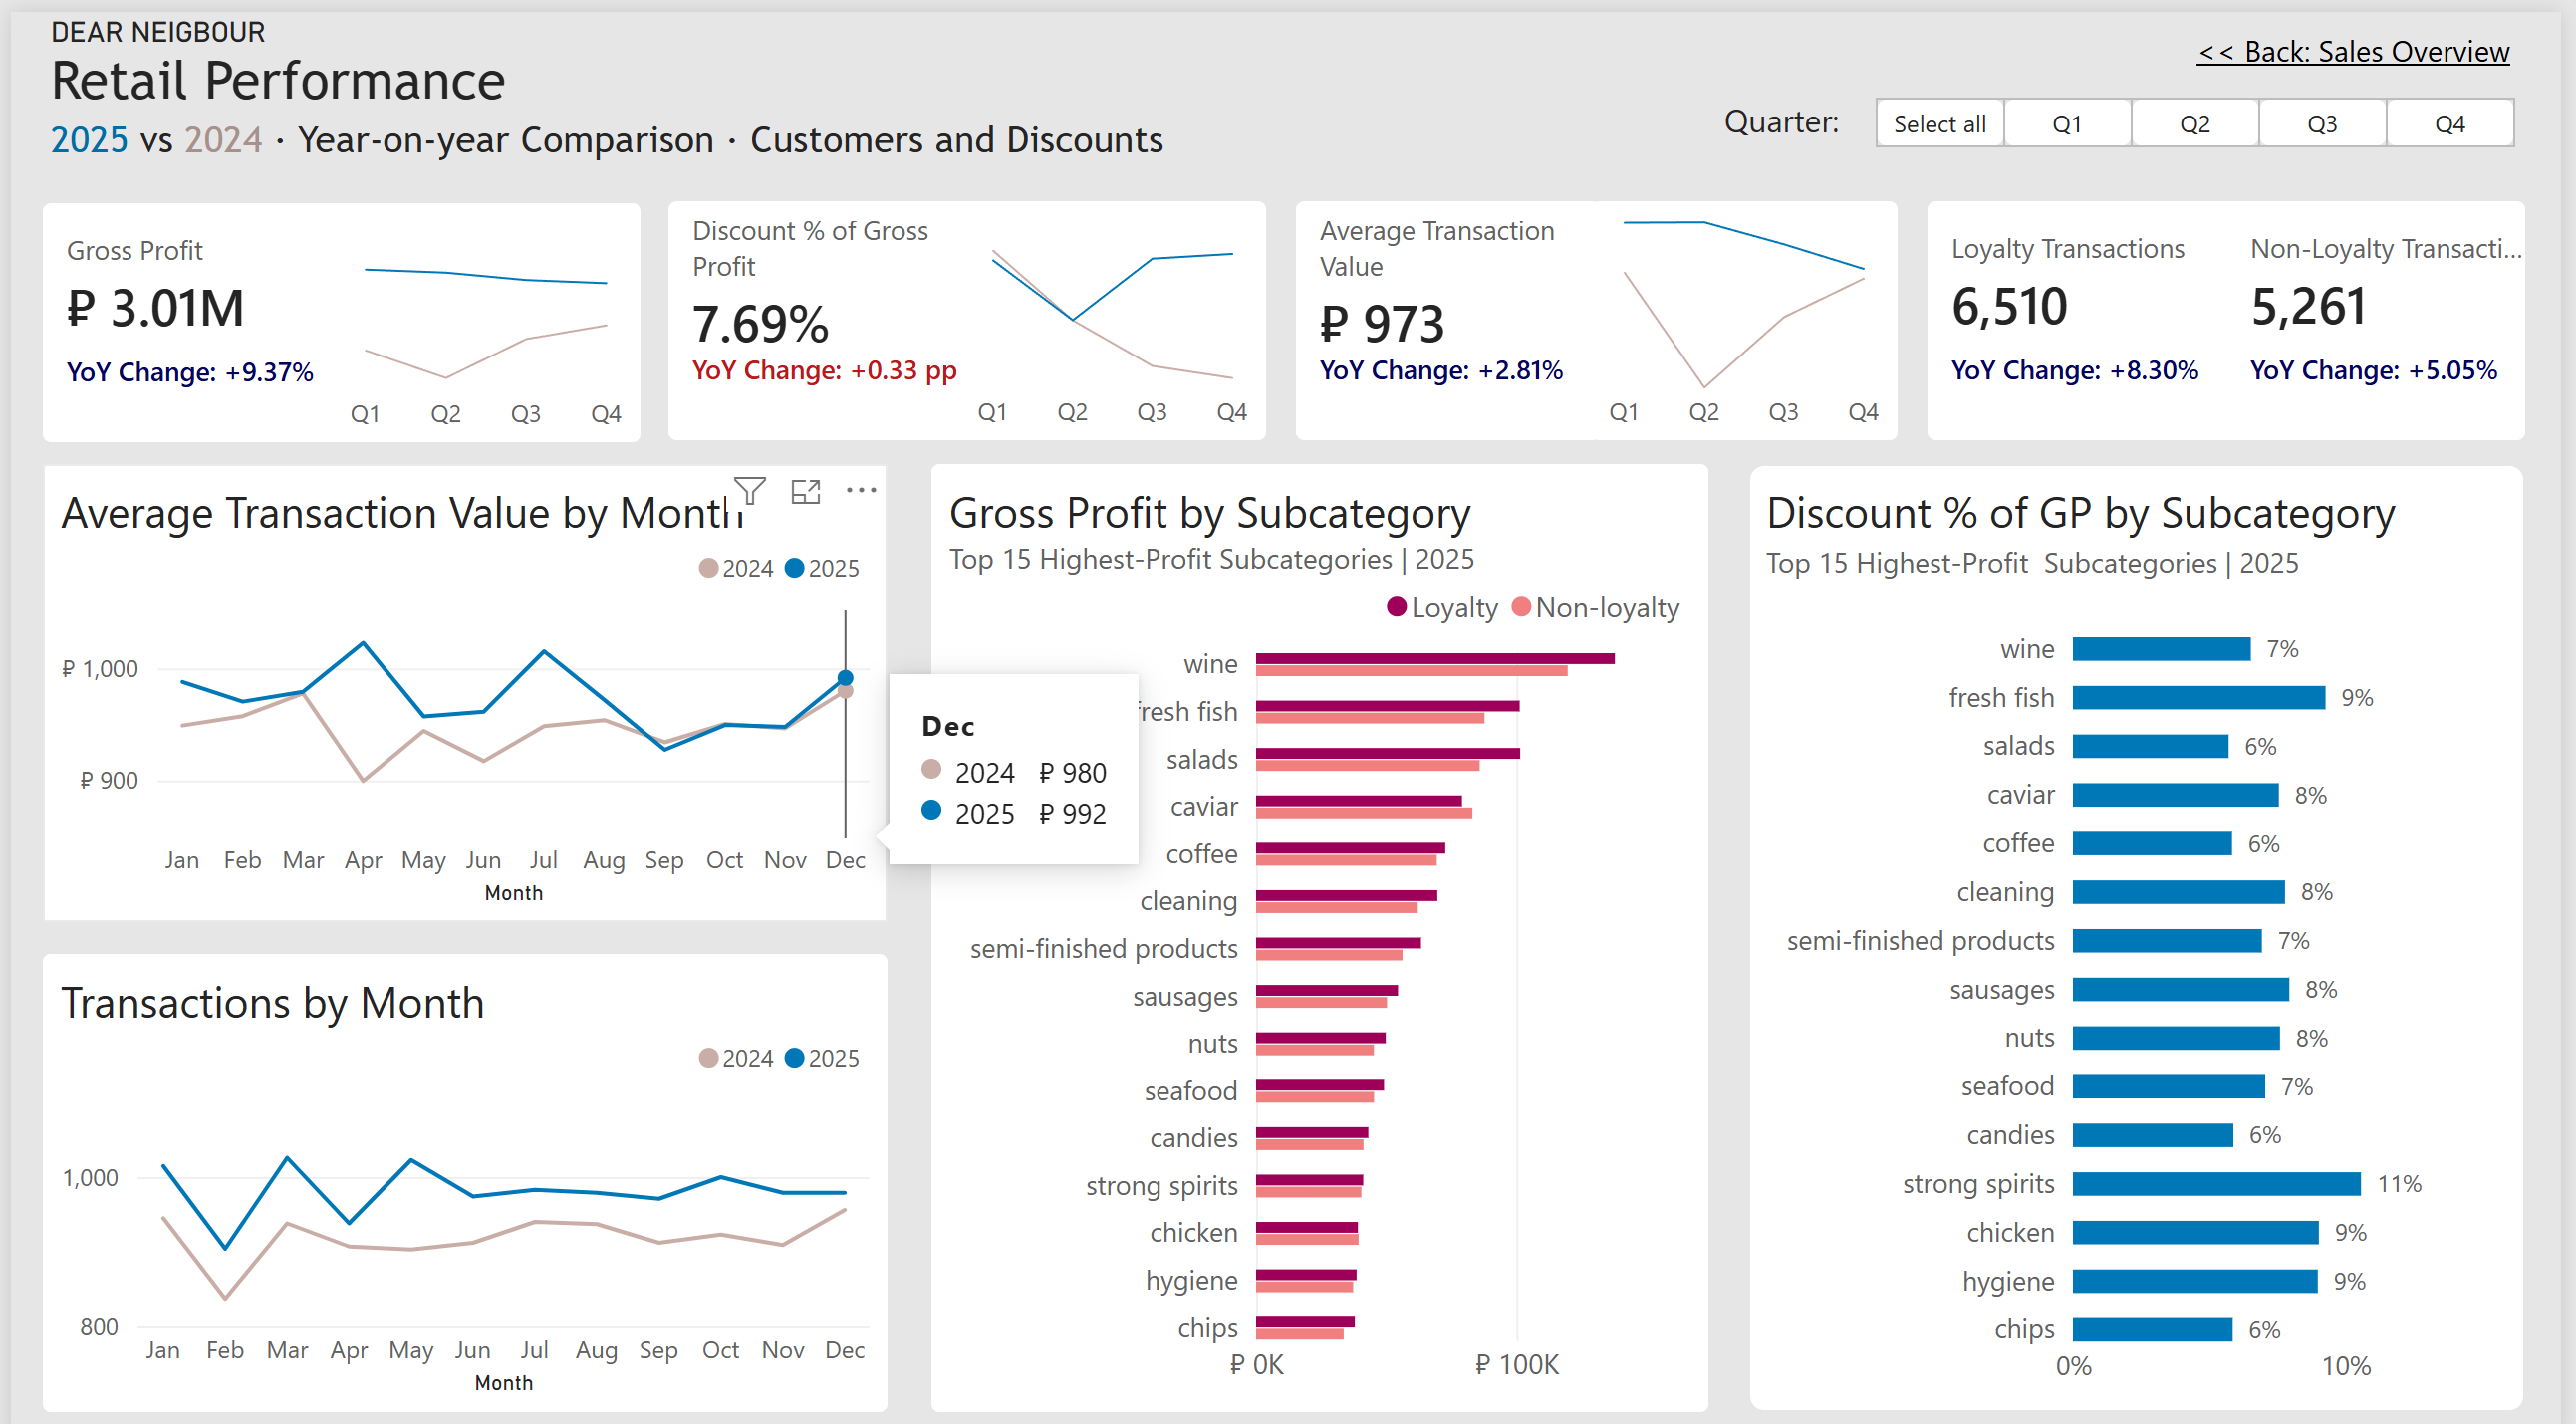

Layout of this report page (visuals, bound fields, positions):
{"tool":"powerbi","page":{"name":"Customers & Loyalty","canvas":[1280,720],"ordinal":1},"visuals":[{"type":"textbox","box":[0,0,290,60],"z":0},{"type":"advancedSlicerVisual","fields":{"Values":["calendar.Quarter"]},"box":[936,43,325,25],"z":1000},{"type":"textbox","box":[0,53.5,644.9,33.1],"z":2000},{"type":"cardVisual","fields":{"Data":["fact_sales.Discount % of Gross Profit"]},"box":[330,95,150,120],"z":3000},{"type":"cardVisual","fields":{"Data":["fact_sales.Average Check"]},"box":[645,95,150,120],"z":4000},{"type":"cardVisual","fields":{"Data":["fact_sales.Loyalty Transactions"]},"box":[962.1,95,150,120],"z":5000},{"type":"lineChart","title":"Gross Margin","fields":{"Category":["calendar.Quarter"],"Series":["calendar.Year"],"Y":["fact_sales.Average Check"]},"box":[793.3,95,154.1,120],"z":6000},{"type":"lineChart","title":"Gross Margin","fields":{"Category":["calendar.Quarter"],"Series":["calendar.Year"],"Y":["fact_sales.Gross Profit"]},"box":[161.4,95.9,154.5,120],"z":7000},{"type":"lineChart","title":"Gross Margin","fields":{"Category":["calendar.Quarter"],"Series":["calendar.Year"],"Y":["fact_sales.Discount % of Gross Profit"]},"box":[476,95,154.1,120],"z":8000},{"type":"cardVisual","fields":{"Data":["fact_sales.Non-Loyalty Transactions"]},"box":[1112.1,95,150,120],"z":9000},{"type":"clusteredBarChart","title":"Gross Profit by Subcategory","fields":{"Category":["dim_products.subcategory"],"Series":["fact_sales.Customer Type"],"Y":["fact_sales.Gross Profit"]},"box":[462,226.7,390,476.7],"z":10000},{"type":"textbox","box":[860,43,75,25],"z":11000},{"type":"cardVisual","fields":{"Data":["fact_sales.Gross Profit"]},"box":[15.6,95.6,150,120],"z":12000},{"type":"lineChart","title":"Transactions by Month","fields":{"Category":["calendar.Month"],"Series":["calendar.Year"],"Y":["fact_sales.Transactions"]},"box":[15.6,473.3,424.4,230],"z":13000},{"type":"lineChart","title":"Average Transaction Value  by Month","fields":{"Category":["calendar.Month"],"Series":["calendar.Year"],"Y":["fact_sales.Average Check"]},"box":[15.6,226.7,424.4,230],"z":14000},{"type":"clusteredBarChart","title":"Discount % of GP by Subcategory","fields":{"Category":["dim_products.subcategory"],"Y":["fact_sales.Discount % of Gross Profit"]},"box":[872.2,226.7,390,476.7],"z":15000},{"type":"actionButton","title":"Next: Customers & Loyalty","box":[1089.4,0,191.6,37],"z":16000}]}

Visuals, with their boxes in screenshot pixels (x1, y1, x2, y2), scaled from the page's 1280x720 canvas onto the 2576x1424 screenshot:
textbox: pyautogui.locateOnScreen(0, 0, 584, 119)
advancedSlicerVisual - calendar.Quarter: pyautogui.locateOnScreen(1884, 85, 2538, 134)
textbox: pyautogui.locateOnScreen(0, 106, 1298, 171)
cardVisual - fact_sales.Discount % of Gross Profit: pyautogui.locateOnScreen(664, 188, 966, 425)
cardVisual - fact_sales.Average Check: pyautogui.locateOnScreen(1298, 188, 1600, 425)
cardVisual - fact_sales.Loyalty Transactions: pyautogui.locateOnScreen(1936, 188, 2238, 425)
"Gross Margin" lineChart: pyautogui.locateOnScreen(1597, 188, 1907, 425)
"Gross Margin" lineChart: pyautogui.locateOnScreen(325, 189, 636, 427)
"Gross Margin" lineChart: pyautogui.locateOnScreen(958, 188, 1268, 425)
cardVisual - fact_sales.Non-Loyalty Transactions: pyautogui.locateOnScreen(2238, 188, 2540, 425)
"Gross Profit by Subcategory" clusteredBarChart: pyautogui.locateOnScreen(929, 448, 1714, 1391)
textbox: pyautogui.locateOnScreen(1730, 85, 1882, 134)
cardVisual - fact_sales.Gross Profit: pyautogui.locateOnScreen(32, 189, 334, 426)
"Transactions by Month" lineChart: pyautogui.locateOnScreen(32, 936, 886, 1391)
"Average Transaction Value  by Month" lineChart: pyautogui.locateOnScreen(32, 448, 886, 903)
"Discount % of GP by Subcategory" clusteredBarChart: pyautogui.locateOnScreen(1755, 448, 2540, 1391)
"Next: Customers & Loyalty" actionButton: pyautogui.locateOnScreen(2192, 0, 2575, 73)
